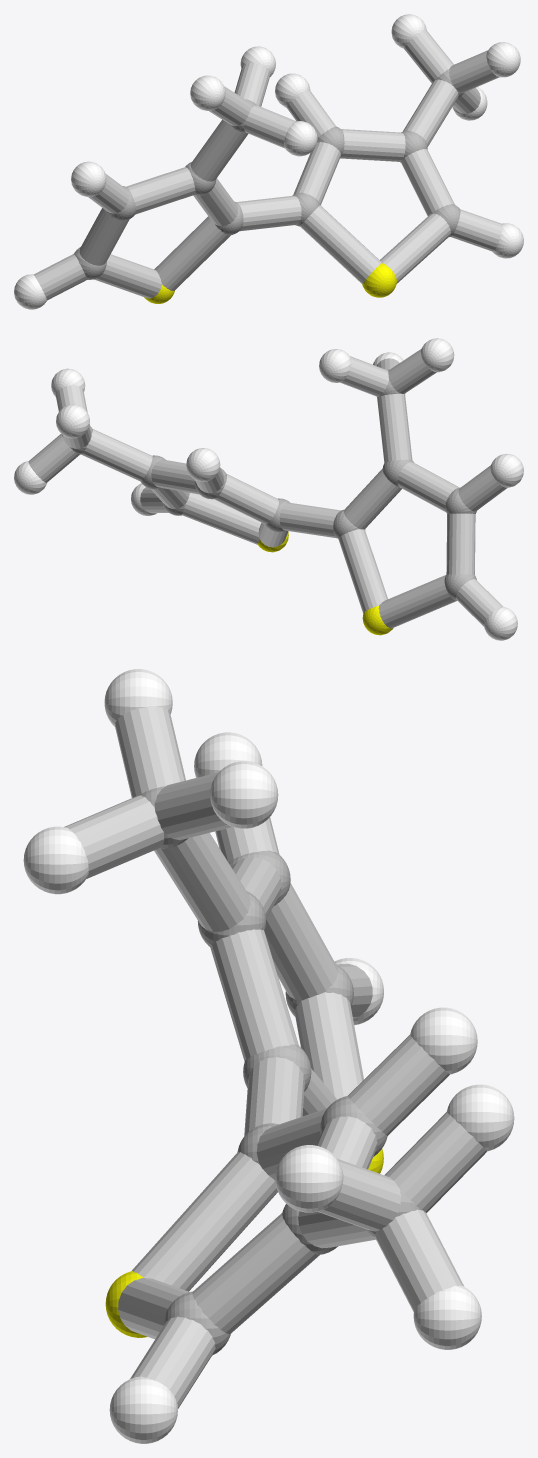
The model's file is Methylthiophene_Phi_5_Theta_110_Methylthiophene.glb.
3 views of the same model, one above another, from view 1: azimuth 30°, elevation 25°; view 2: azimuth 150°, elevation 25°; view 3: azimuth 270°, elevation 25° (orthographic). The views are drawn at different scales.
Visible parts, largest first — view 1: grp7965, grp3621, grp1, grp7241; view 2: grp7965, grp3621, grp1, grp7241; view 3: grp7965, grp3621, grp1, grp7241.
Boxes of the visible parts, x1,y1,x2,y2 form: grp7965: (34,30,502,300); grp3621: (14,14,523,309); grp1: (74,69,463,279); grp7241: (144,263,396,303); grp7965: (28,349,507,628); grp3621: (14,338,523,640); grp1: (62,369,476,600); grp7241: (258,532,393,635); grp7965: (64,706,486,1408); grp3621: (23,669,514,1443); grp1: (138,786,420,1355); grp7241: (105,1148,383,1337).
Bounding box in the file's own units: 9.64 × 4.97 × 4.31.
